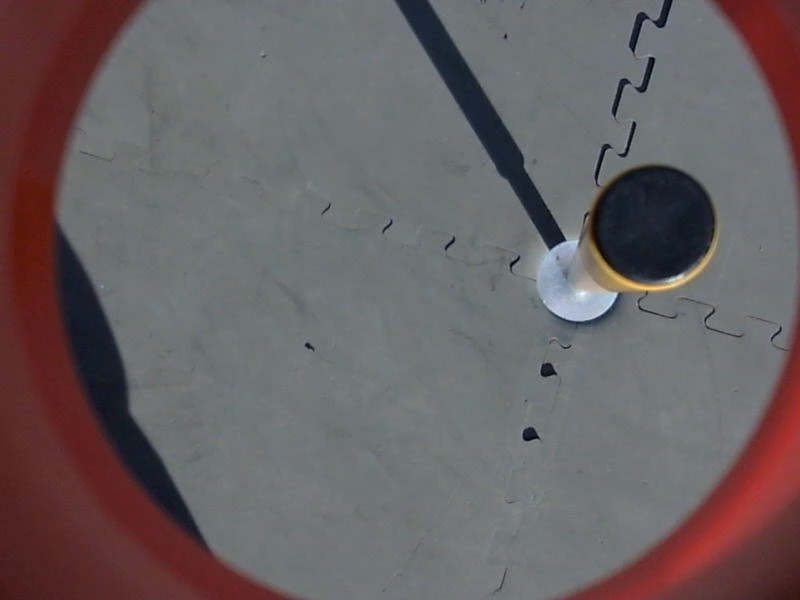tip: (585, 161, 723, 296)
